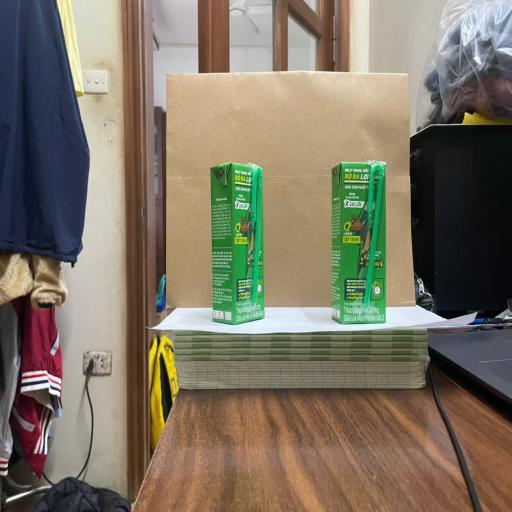milo: (330, 162, 386, 324), (211, 162, 265, 326)
